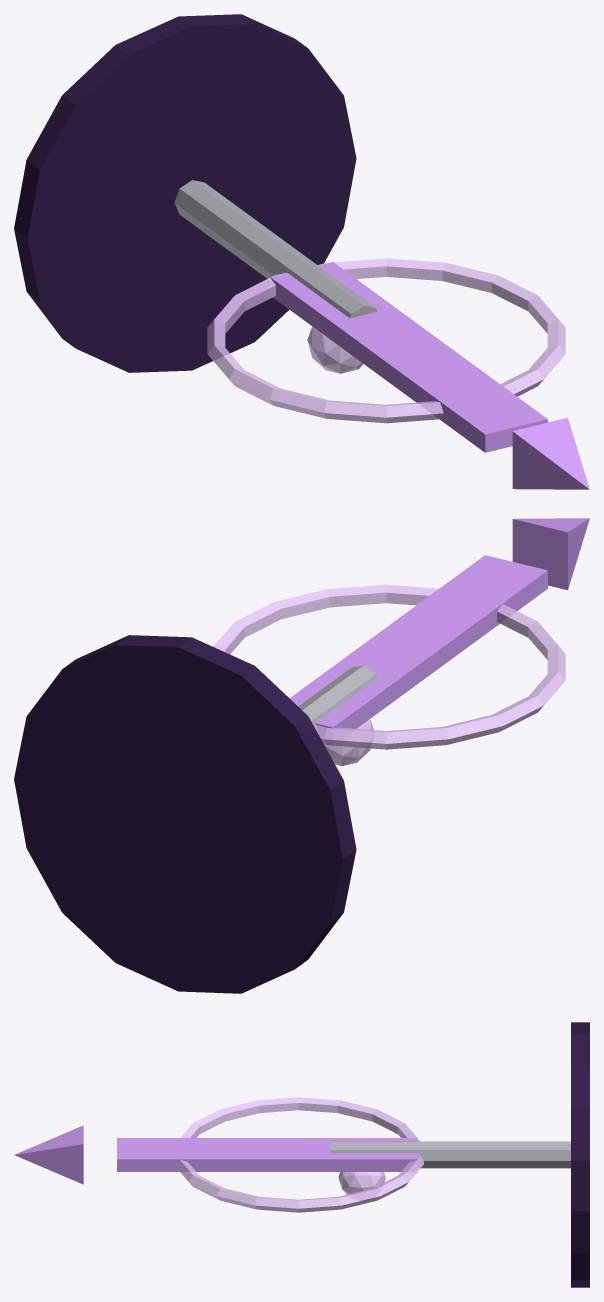
The model's file is 04_high_tier_magic_weapon_aura.glb.
The picture shows the model from 3 angles, top to bottom: view 1: azimuth 30°, elevation 25°; view 2: azimuth 150°, elevation 25°; view 3: azimuth 270°, elevation 25°; orthographic projection. The views are drawn at different scales.
Visible parts, largest first — view 1: weapon_display_base, magic_blade_core, weapon_enchant_orbit, weapon_grip, magic_blade_tip, weapon_gem; view 2: weapon_display_base, magic_blade_core, weapon_enchant_orbit, magic_blade_tip, weapon_grip, weapon_gem; view 3: magic_blade_core, weapon_enchant_orbit, weapon_grip, weapon_display_base, magic_blade_tip, weapon_gem.
Part boxes in pixels (x1=…): weapon_display_base: x1=14, y1=14, x2=356, y2=372; magic_blade_core: x1=270, y1=262, x2=547, y2=452; weapon_enchant_orbit: x1=207, y1=258, x2=565, y2=423; weapon_grip: x1=174, y1=180, x2=377, y2=318; magic_blade_tip: x1=512, y1=417, x2=589, y2=489; weapon_gem: x1=307, y1=326, x2=363, y2=373; weapon_display_base: x1=14, y1=635, x2=356, y2=993; magic_blade_core: x1=289, y1=555, x2=547, y2=745; weapon_enchant_orbit: x1=213, y1=584, x2=565, y2=749; magic_blade_tip: x1=512, y1=518, x2=589, y2=590; weapon_grip: x1=298, y1=665, x2=377, y2=733; weapon_gem: x1=324, y1=719, x2=373, y2=766; magic_blade_core: x1=117, y1=1138, x2=417, y2=1171; weapon_enchant_orbit: x1=175, y1=1097, x2=423, y2=1212; weapon_grip: x1=330, y1=1141, x2=570, y2=1168; weapon_display_base: x1=571, y1=1022, x2=589, y2=1287; magic_blade_tip: x1=14, y1=1125, x2=83, y2=1184; weapon_gem: x1=338, y1=1172, x2=385, y2=1194.
Bounding box in the file's own units: 0.84 × 0.84 × 1.82.
